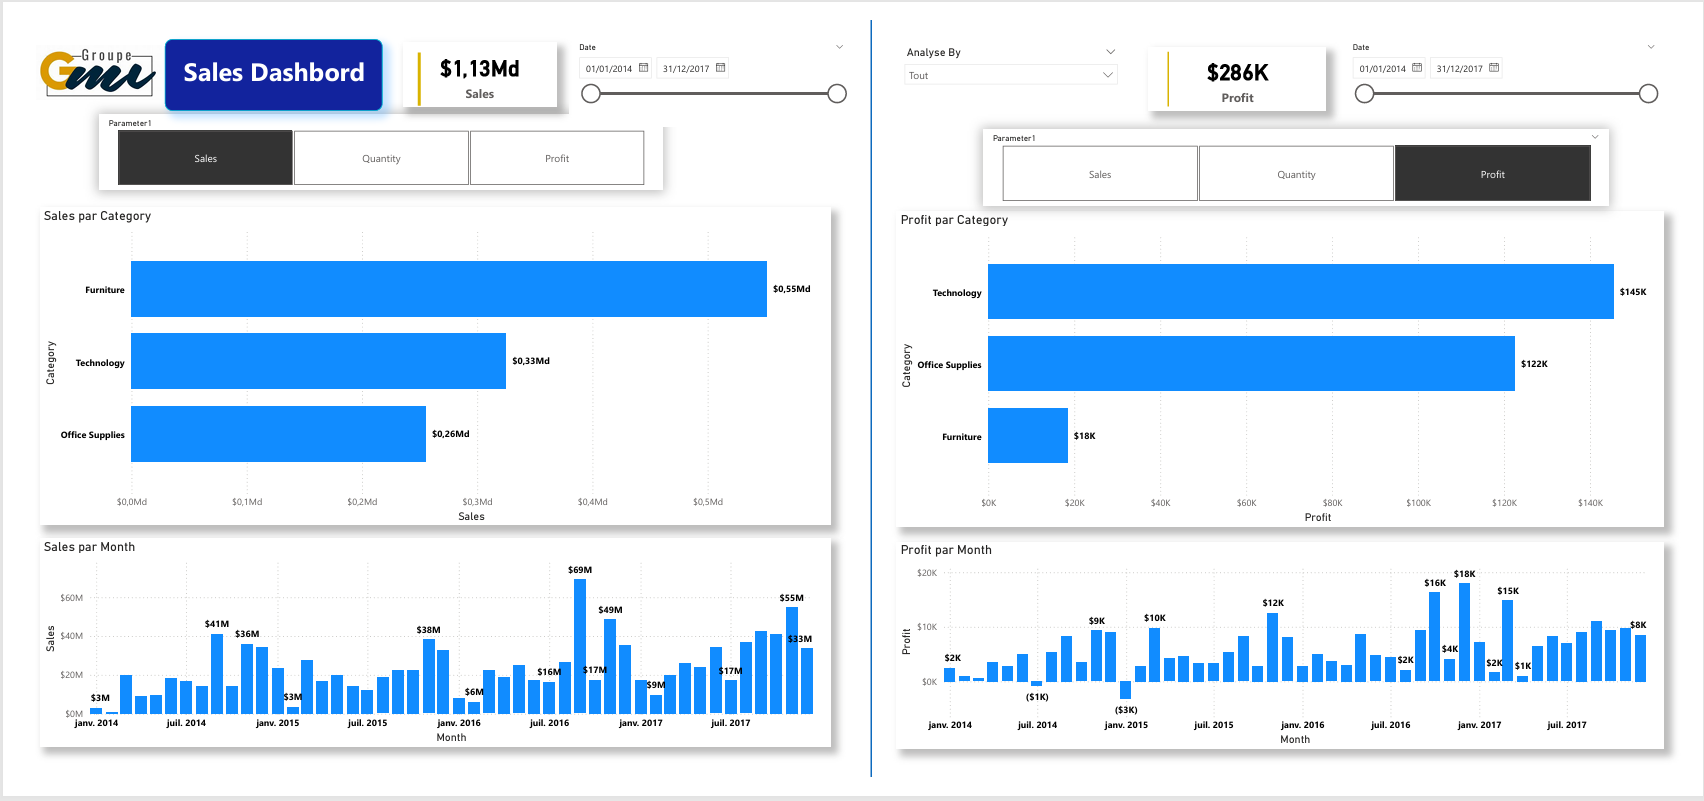

The dashboard page shown, as its layout file describes it:
{"tool":"powerbi","page":{"name":"Sales VS Profit","canvas":[2200,1000],"ordinal":1},"visuals":[{"type":"slicer","fields":{"Values":["Parameter1.Parameter1"]},"box":[102.5,125,745,100],"z":0},{"type":"shape","box":[995,0,257.5,1000],"z":1000},{"type":"slicer","fields":{"Values":["Calendar.Date"]},"box":[725,25,375,115],"z":2000},{"type":"barChart","fields":{"Y":["Mesure.Sales"],"Category":["Dim_product.Category","Dim_product.Sub-Category","Dim_product.Product Name","Dim_segment.Segment","Dim_ship_mode.Ship Mode","Dim_location.Region","Dim_location.State","Dim_location.City"]},"box":[25,247.5,1045,420],"z":3000},{"type":"slicer","fields":{"Values":["Calendar.Date"]},"box":[1747.5,25,425,107.5],"z":4000},{"type":"barChart","fields":{"Y":["Mesure.Profit"],"Category":["Dim_product.Category","Dim_product.Sub-Category","Dim_product.Product Name","Dim_segment.Segment","Dim_ship_mode.Ship Mode","Dim_location.Region","Dim_location.State","Dim_location.City"]},"box":[1157.5,252.5,1015,417.5],"z":5000},{"type":"slicer","fields":{"Values":["Parameter1.Parameter1"]},"box":[1272,145.3,826.8,100.6],"z":6000},{"type":"card","fields":{"Values":["Mesure.Sales"]},"box":[505,30,202.5,85],"z":7000},{"type":"card","fields":{"Values":["Mesure.Profit"]},"box":[1491.2,36,234.8,84.3],"z":8000},{"type":"clusteredColumnChart","fields":{"Y":["Mesure.Sales"],"Category":["Calendar.Month"]},"box":[25,685,1045,275],"z":9000},{"type":"clusteredColumnChart","fields":{"Y":["Mesure.Profit"],"Category":["Calendar.Month"]},"box":[1157.5,690,1015,272.5],"z":10000},{"type":"shape","box":[1487.2,42.1,60.2,72.2],"z":11000},{"type":"shape","box":[505,42.5,42.5,70],"z":12000},{"type":"textbox","title":" ","box":[190,25,287.5,95],"z":13000},{"type":"image","box":[15,12.5,175,112.5],"z":14000},{"type":"slicer","fields":{"Values":["Analyze By :.Parameter"]},"box":[1157.5,30,302.5,85],"z":15000},{"type":"actionButton","box":[15,28.3,163.3,85],"z":16000}]}

Visuals, with their boxes on the page's 2200x1000 design canvas (x1, y1, x2, y2). These are canvas units, not pixel positions in the 1704x801 screenshot, which may show the page scaled, cropped or inside an application window:
slicer - Parameter1.Parameter1: bbox=(102, 125, 848, 225)
shape: bbox=(995, 0, 1252, 1000)
slicer - Calendar.Date: bbox=(725, 25, 1100, 140)
barChart - Mesure.Sales x Dim_product.Category: bbox=(25, 248, 1070, 668)
slicer - Calendar.Date: bbox=(1748, 25, 2172, 132)
barChart - Mesure.Profit x Dim_product.Category: bbox=(1158, 252, 2172, 670)
slicer - Parameter1.Parameter1: bbox=(1272, 145, 2099, 246)
card - Mesure.Sales: bbox=(505, 30, 708, 115)
card - Mesure.Profit: bbox=(1491, 36, 1726, 120)
clusteredColumnChart - Mesure.Sales x Calendar.Month: bbox=(25, 685, 1070, 960)
clusteredColumnChart - Mesure.Profit x Calendar.Month: bbox=(1158, 690, 2172, 962)
shape: bbox=(1487, 42, 1547, 114)
shape: bbox=(505, 42, 548, 112)
" " textbox: bbox=(190, 25, 478, 120)
image: bbox=(15, 12, 190, 125)
slicer - Analyze By :.Parameter: bbox=(1158, 30, 1460, 115)
actionButton: bbox=(15, 28, 178, 113)
